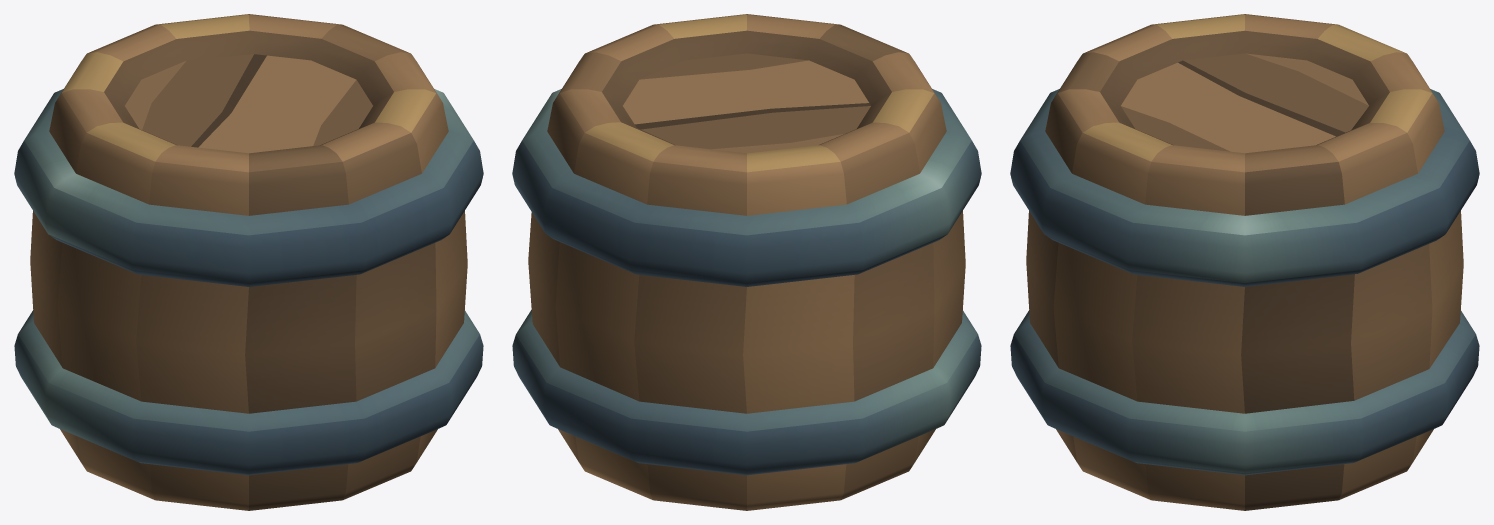
The model's file is tavern_barrel.fbx.
3 renders of one model, left to right at view 1: azimuth 30°, elevation 25°; view 2: azimuth 150°, elevation 25°; view 3: azimuth 270°, elevation 25°, orthographic.
Parts seen in each view (by area): view 1: tavern_barrel_LOD0; view 2: tavern_barrel_LOD0; view 3: tavern_barrel_LOD0.
Boxes of the visible parts, box(x1,y1,x2,y2) form: tavern_barrel_LOD0: box(14, 14, 483, 510); tavern_barrel_LOD0: box(512, 14, 981, 510); tavern_barrel_LOD0: box(1010, 14, 1479, 510).
Size of what is drawn, in the model's own units: 122 by 99.57 by 122.
